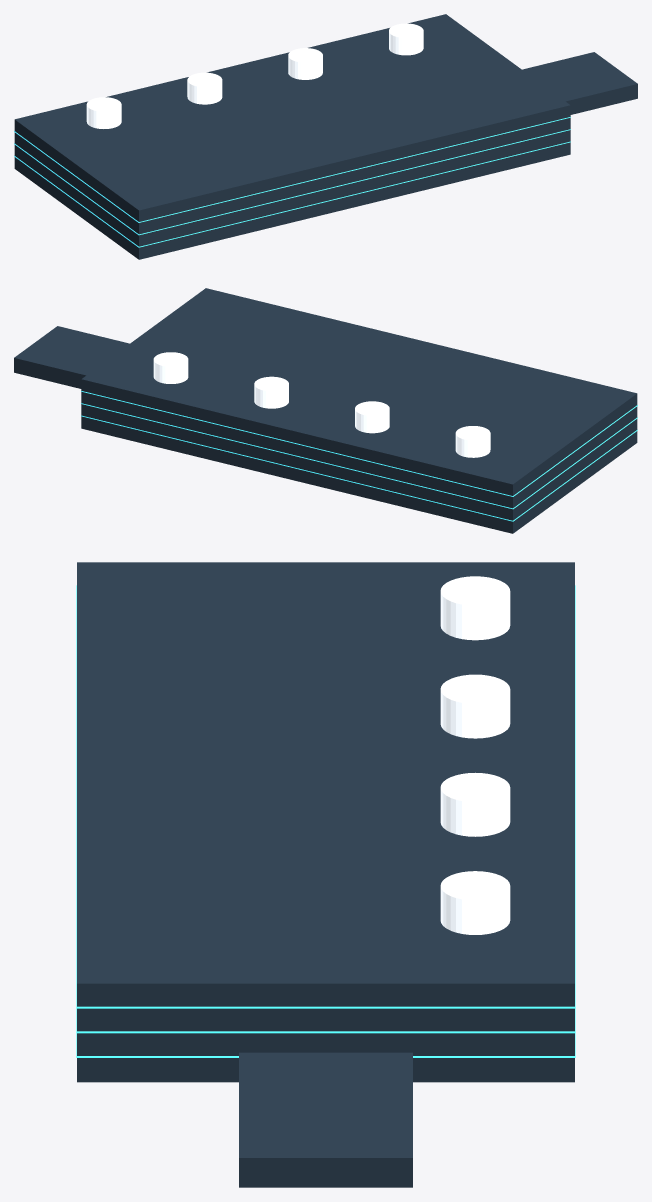
File: neural_block_data_center.glb
The picture shows the model from 3 angles, top to bottom: view 1: azimuth 30°, elevation 25°; view 2: azimuth 150°, elevation 25°; view 3: azimuth 270°, elevation 25°; orthographic projection. The views are drawn at different scales.
Visible parts, largest first — view 1: neural_block_data_center; view 2: neural_block_data_center; view 3: neural_block_data_center.
Boxes of the visible parts, x1,y1,x2,y2 form: neural_block_data_center: [14, 14, 637, 259]; neural_block_data_center: [14, 288, 637, 533]; neural_block_data_center: [76, 562, 575, 1187].
Bounding box in the file's own units: 275 × 32.4 × 110.
